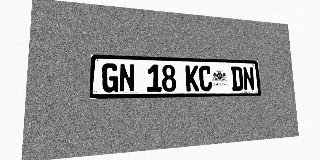1: (147, 64, 162, 92)
8: (162, 65, 176, 92)
C: (199, 65, 212, 91)
D: (231, 66, 244, 91)
G: (102, 63, 119, 92)
K: (185, 65, 199, 91)
N: (119, 63, 135, 92), (242, 67, 255, 91)
